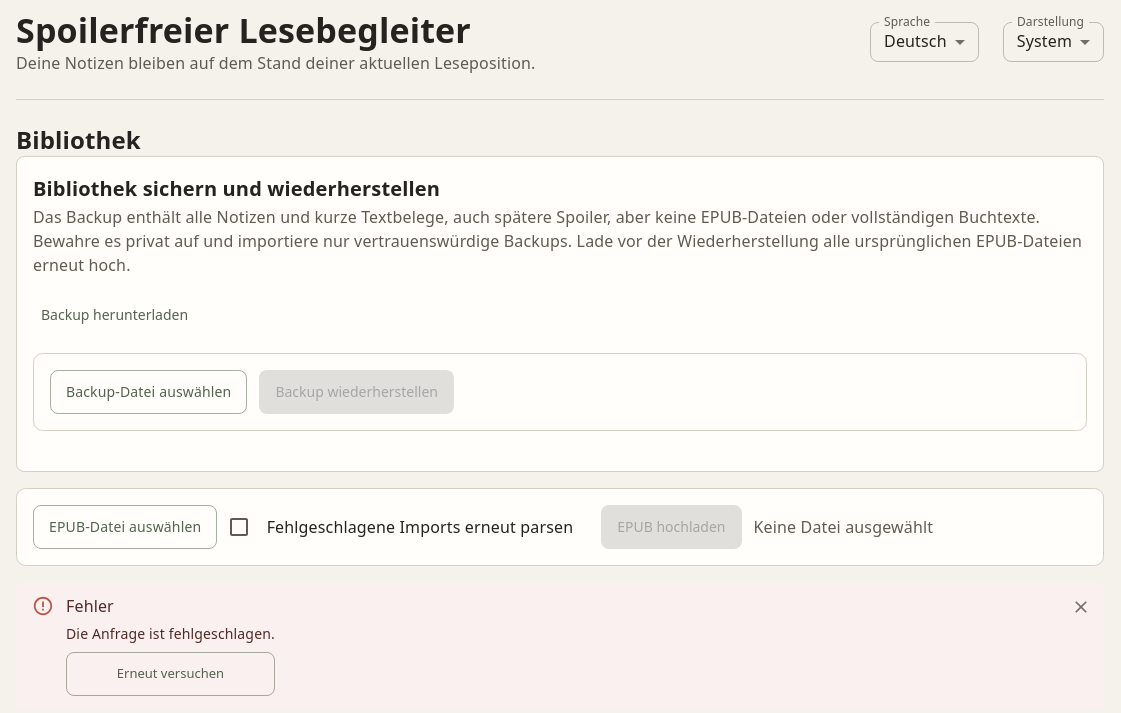
Test: App › shows a first-load error without showing an empty-library state, then recovers
The image size is (1121, 713).
Expected: the message shows "Die Anfrage ist fehlgeschlagen.", [66,624,275,643]
Expected: the text "Noch keine Bücher" is not shown
Click the button "Erneut versuchen". click: [170, 674]
box: [66,652,275,696]
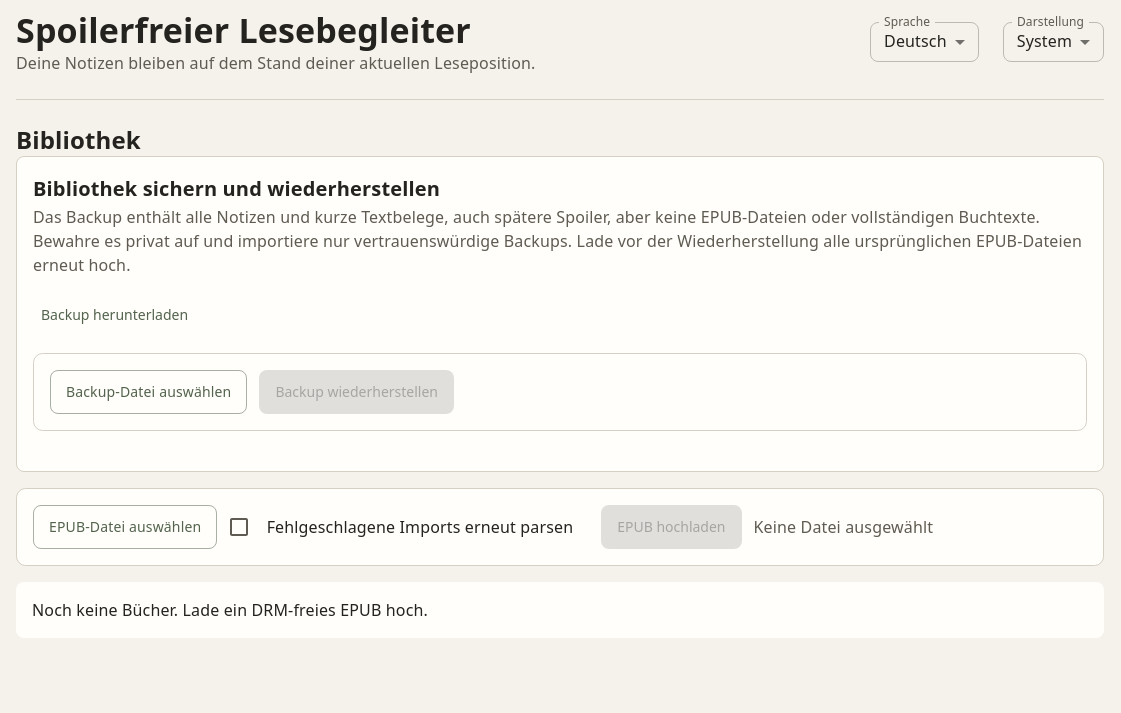
Result: the text "Noch keine Bücher. Lade ein DRM-freies EPUB hoch." is shown at [16,582,1104,638]
Result: the message "Fehler Die Anfrage ist fehlgeschlagen. Erneut versuchen" is gone
